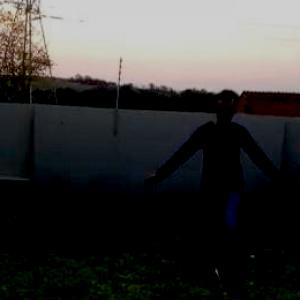land: (167, 92, 284, 263)
